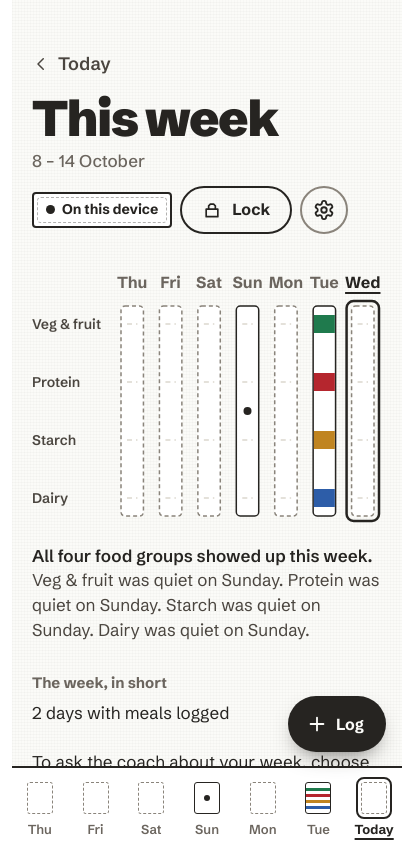
Test case: WeekScreen › the dock route also selects a day and keeps the week in view
Check: the heading "This week" is shown, box x1=32 y1=96 x2=278 y2=141
Click the button named "Tuesday, all four groups": coordinates (318, 806) x1=291 y1=768 x2=346 y2=843
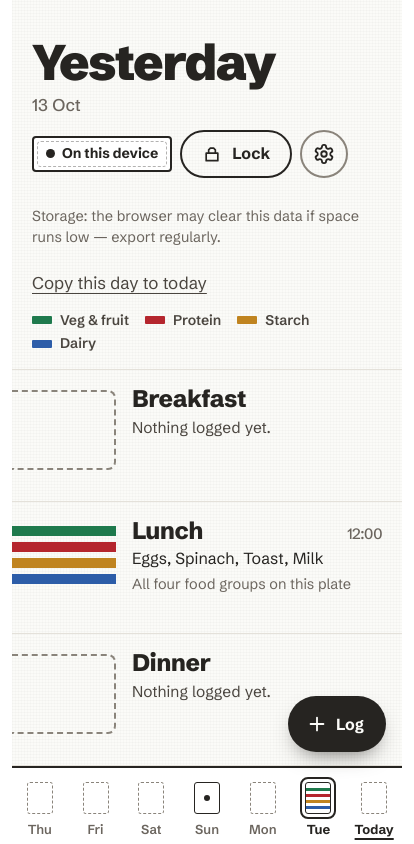
Check: the heading "Yesterday" is shown, box x1=32 y1=40 x2=275 y2=85
